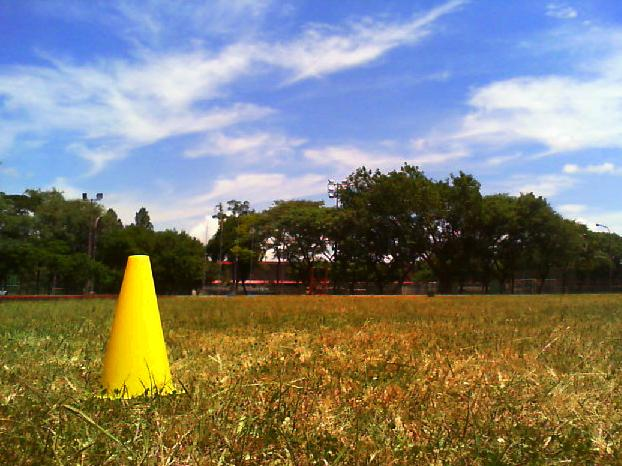0 cone: (95, 255, 185, 401)
